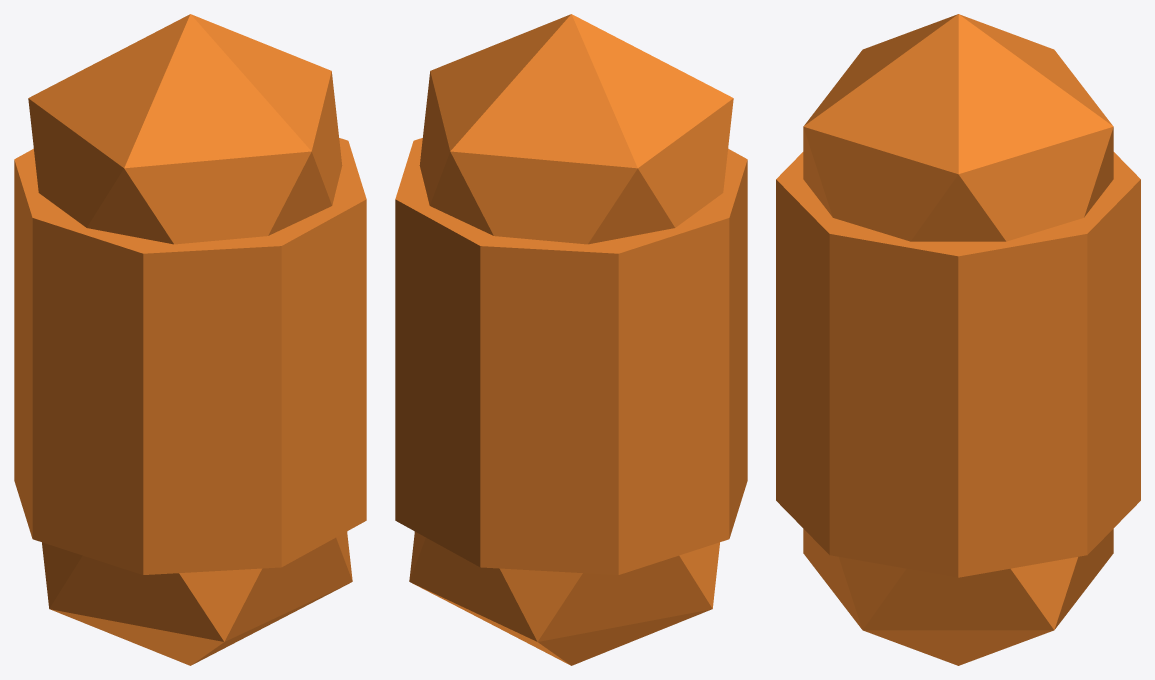
Rendered from capsule_orange.glb.
3 views of the same model, side by side, from view 1: azimuth 30°, elevation 25°; view 2: azimuth 150°, elevation 25°; view 3: azimuth 270°, elevation 25° (orthographic).
Visible parts, largest first — view 1: capsule_orange; view 2: capsule_orange; view 3: capsule_orange.
Boxes of the visible parts, left/top/right/bottom form: capsule_orange: left=14, top=14, right=366, bottom=665; capsule_orange: left=395, top=14, right=747, bottom=665; capsule_orange: left=776, top=14, right=1140, bottom=665.
Bounding box in the file's own units: 0.072 × 0.142 × 0.072.
